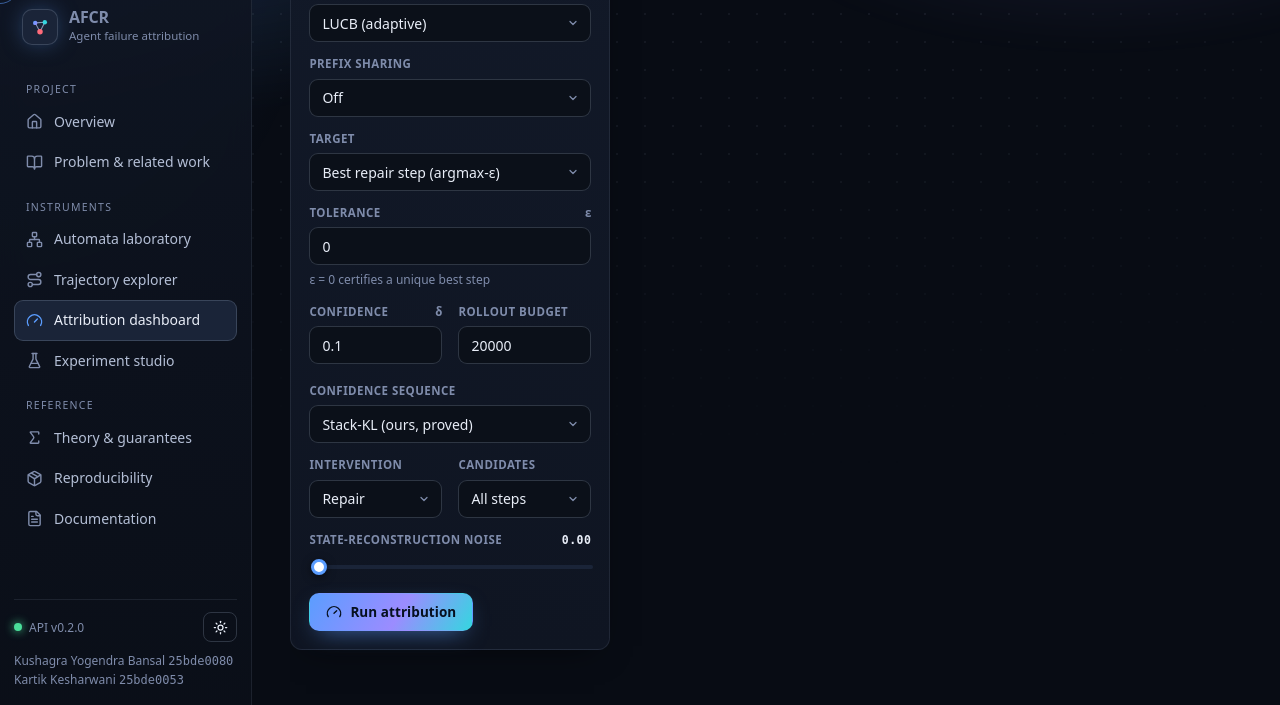
Scenario: forms cannot submit invalid values › δ = 0 disables Run attribution and nothing is sent
(page scrolled)
Replace the text in the field with test id "delta" with "0" at (376, 345), box [309,326,442,364]
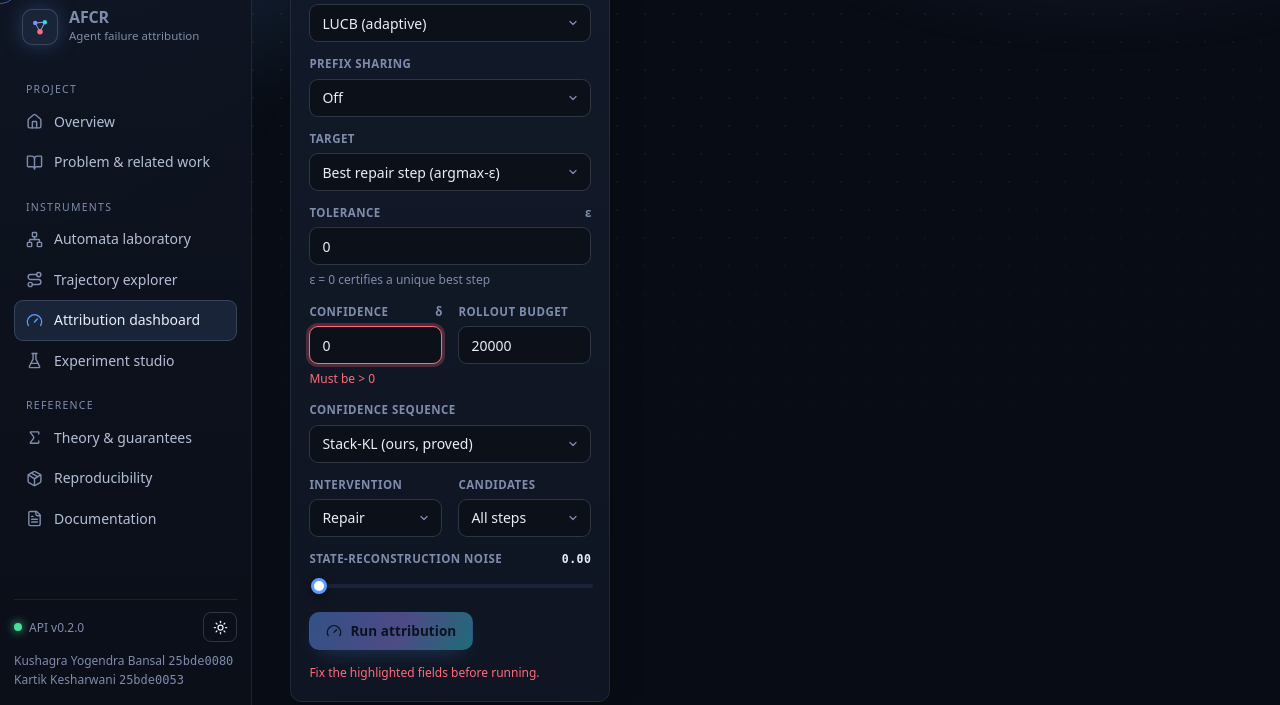
Check: the button with test id "run-attribution" is disabled
Check: the message "Fix the highlighted fields before running." is shown, box [309,664,540,681]
Click the button with test id "run-attribution" at (391, 631), box [309,612,473,650]
(page scrolled)
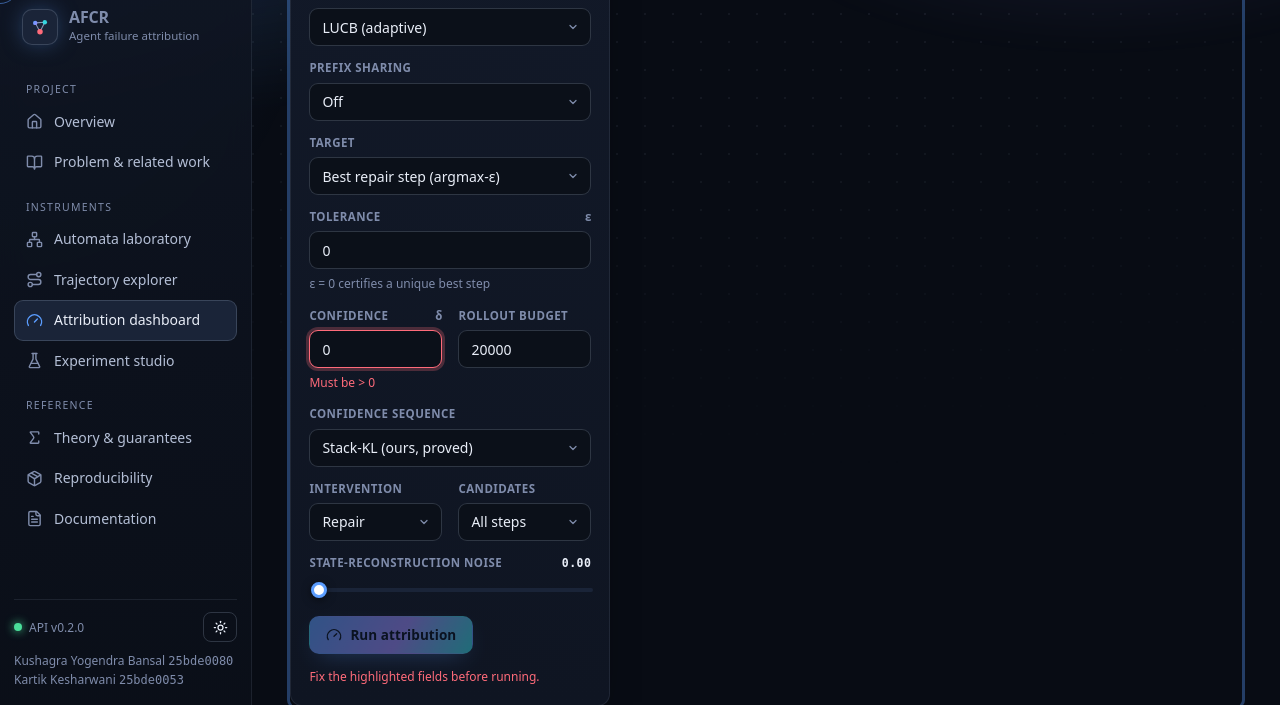
Replace the text in the field with test id "delta" with "0.05" at (376, 349), box [309,330,442,368]
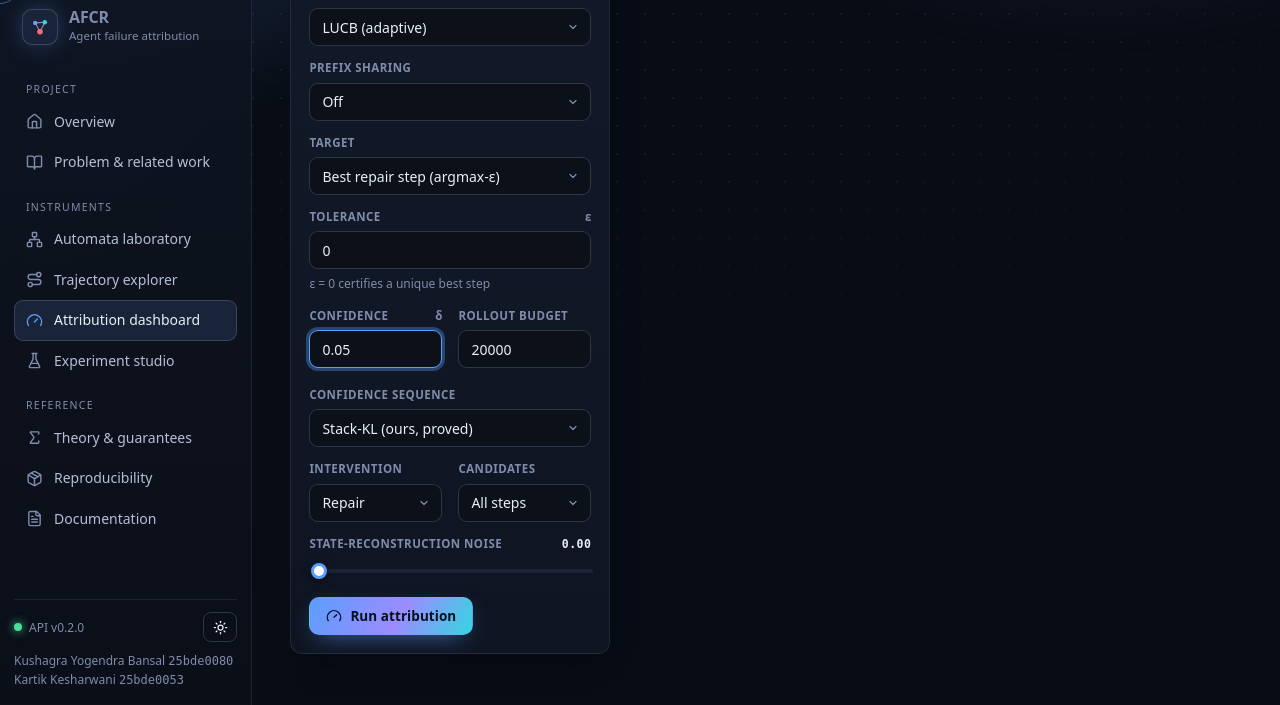
Check: the button with test id "run-attribution" is enabled, box [309,597,473,635]
